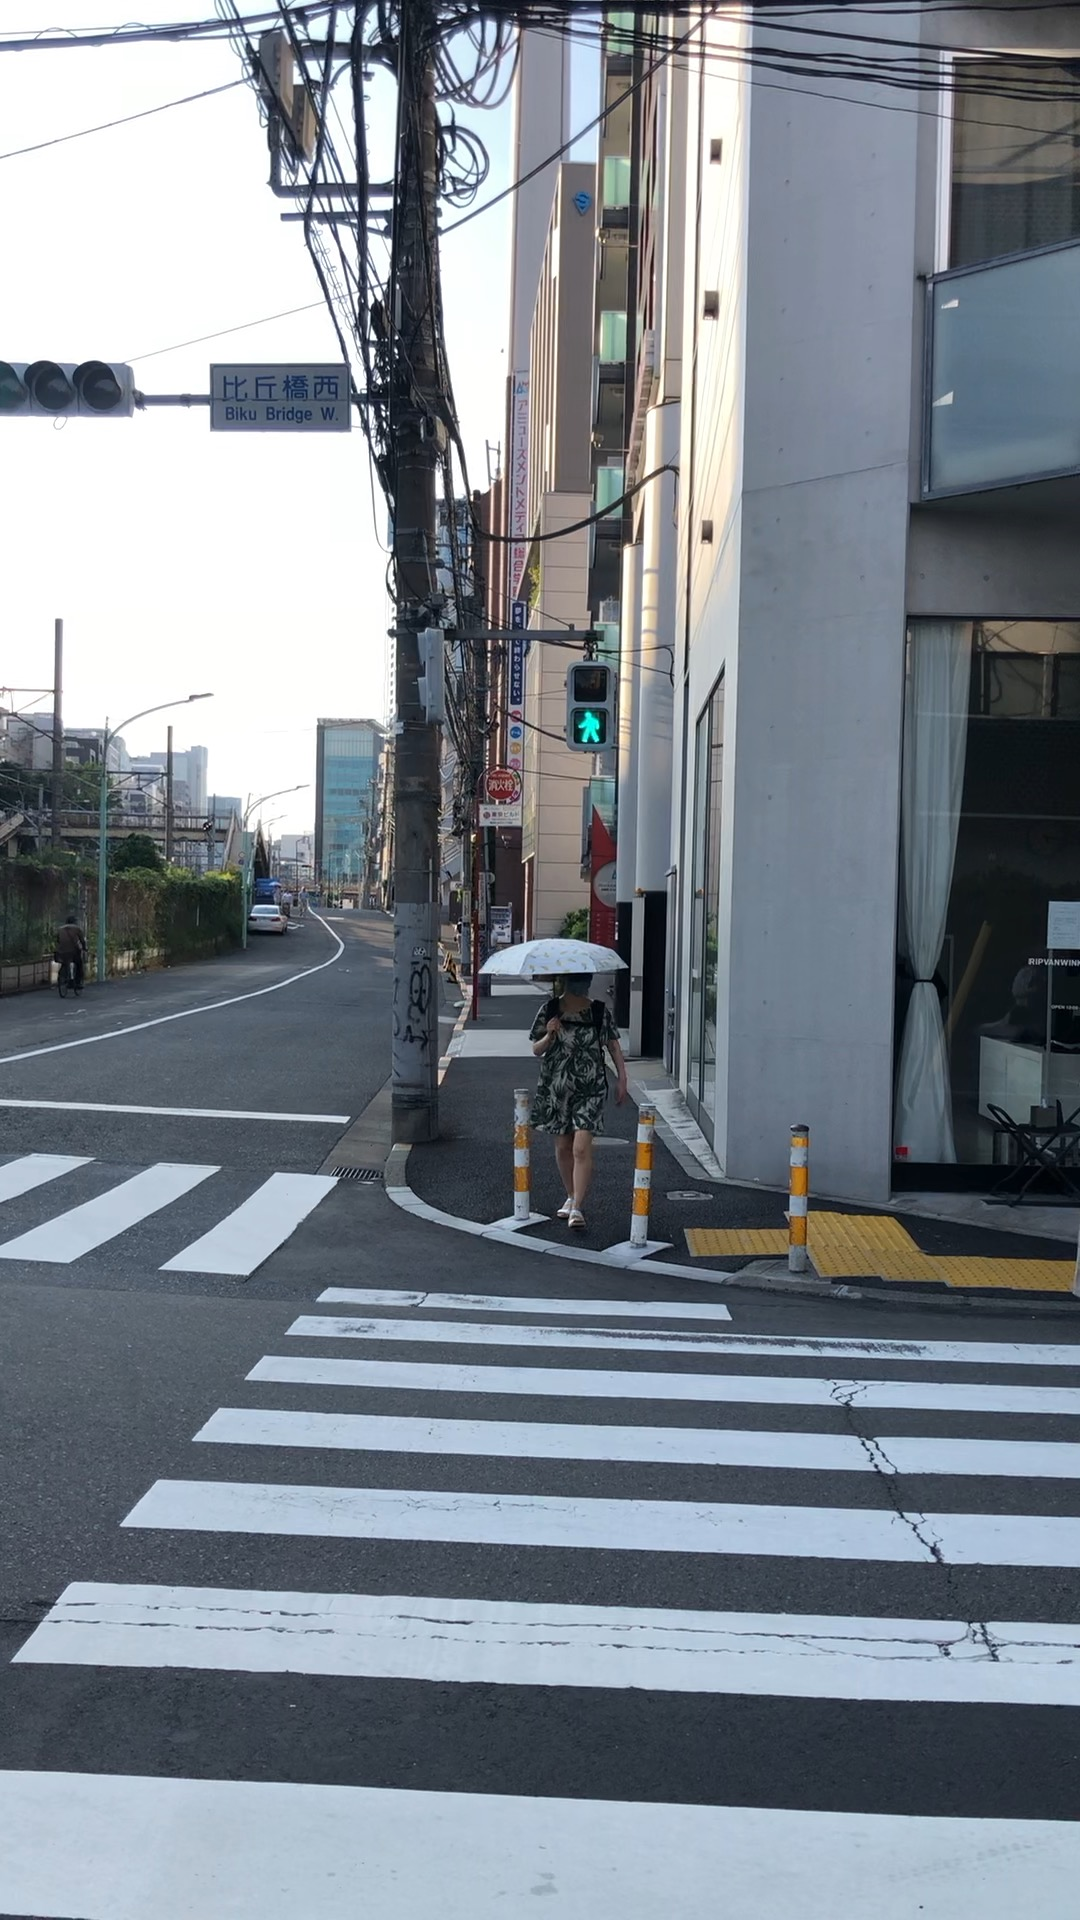green: (564, 661, 615, 749)
